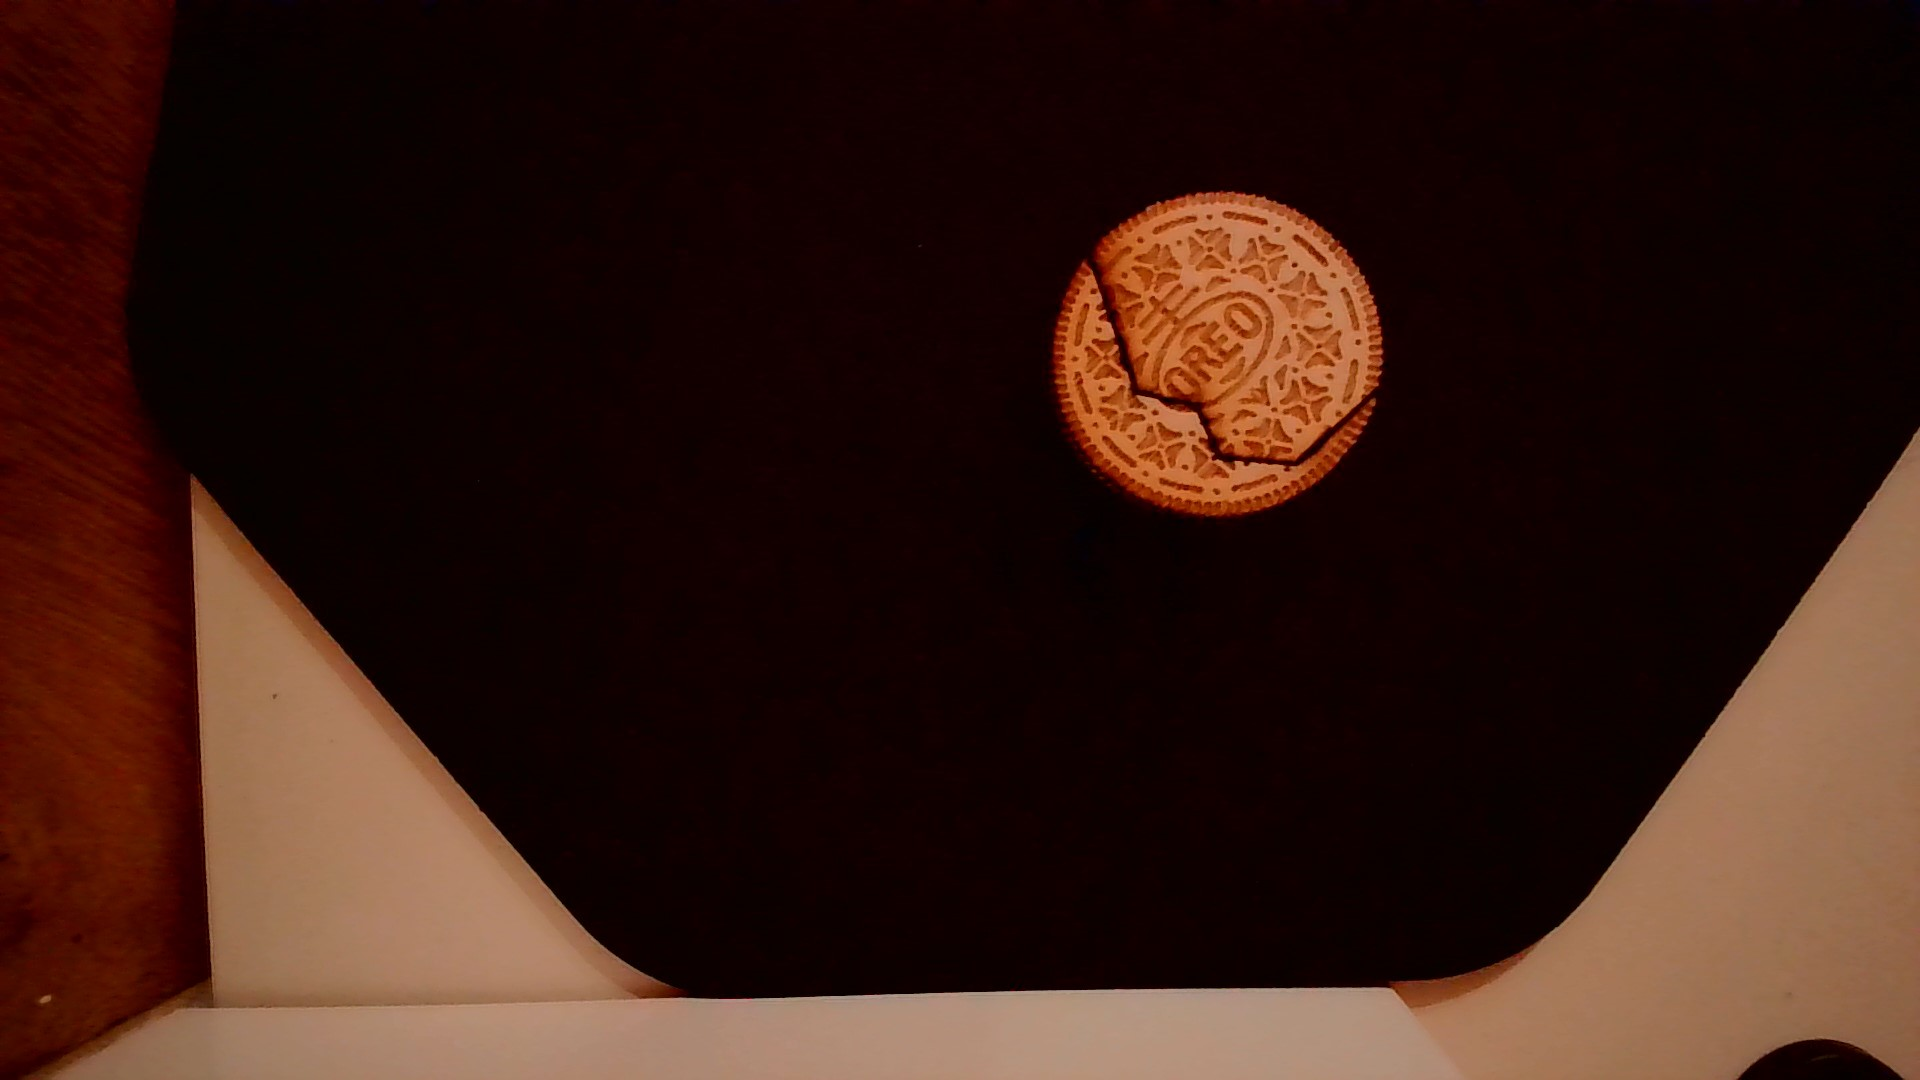Fissure: (1073, 241, 1390, 472)
Oréo: (1036, 182, 1390, 522)
